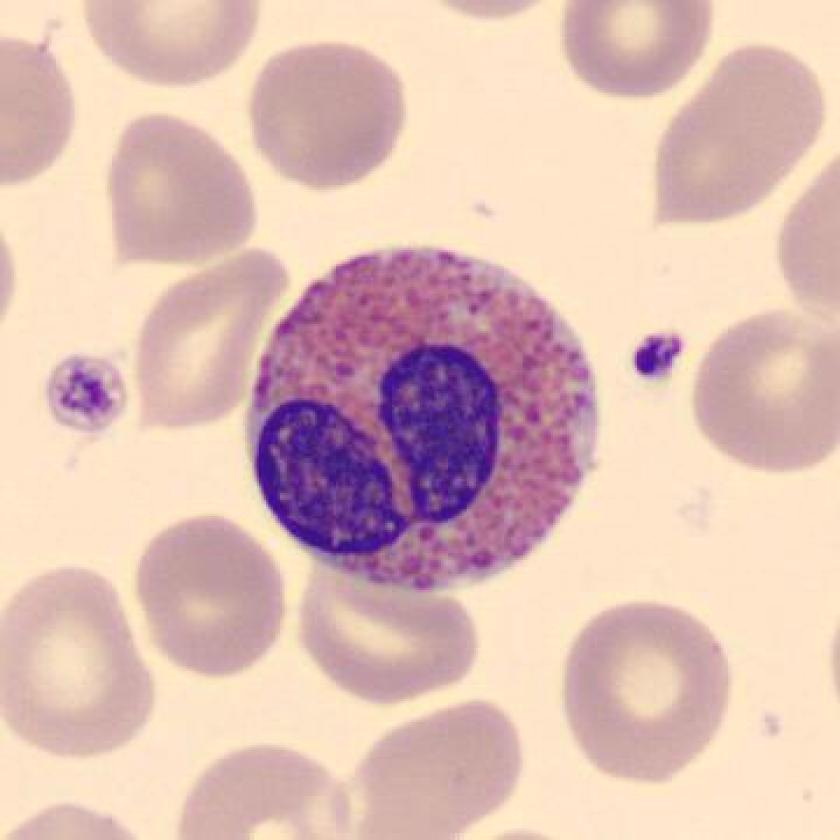eosinophil: (234, 237, 610, 603)
